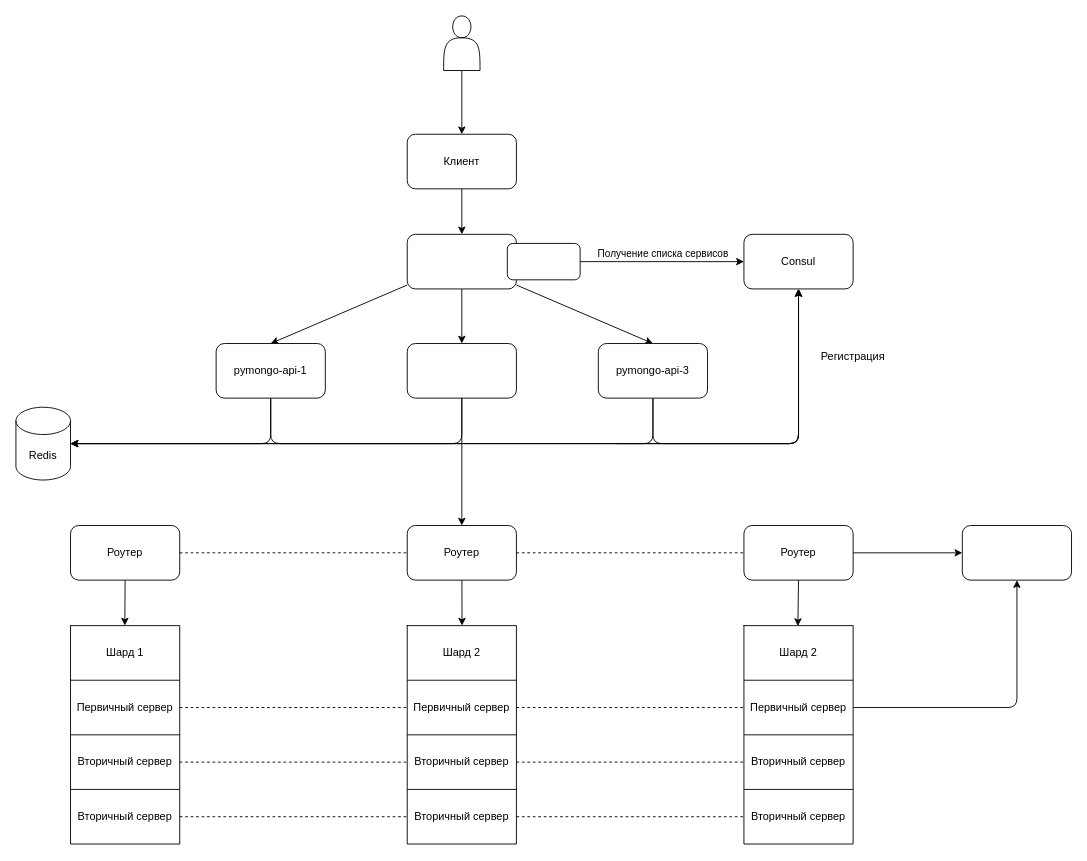
Some shapes in this 1087 by 861 pixel diagram are drawn without their labels. Here are the shapes that lost their labels. From the top down, the centre of each, then its label:
point (461, 261): APISIX Gateway
point (543, 261): consul_kv
point (461, 370): pymongo-api-2
point (1016, 552): Конфигурационный сервер
